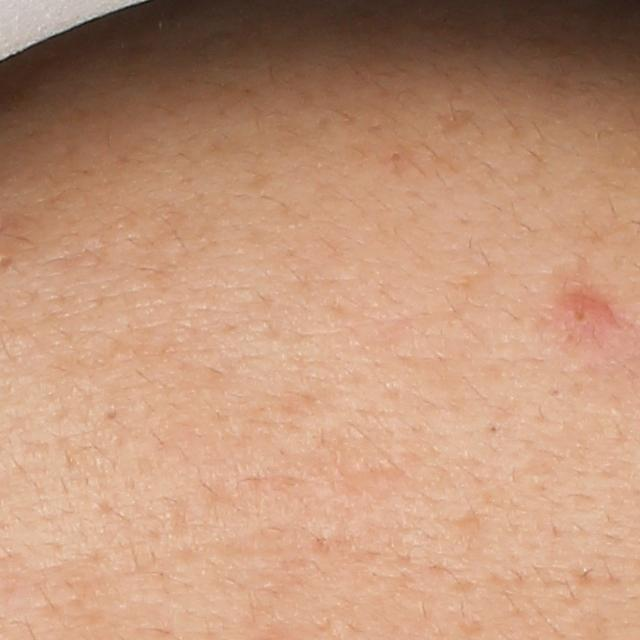comedo: (482, 420, 506, 440)
papule: (563, 285, 628, 347)
